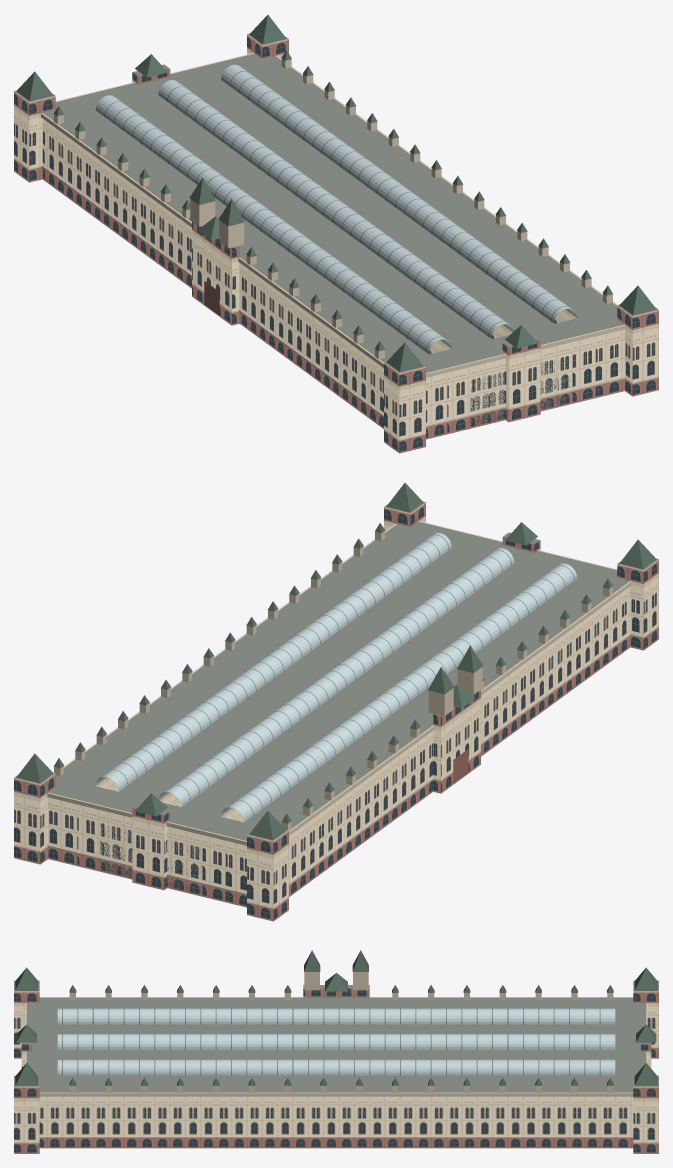
File: gum.glb
3 renders of one model, top to bottom at view 1: azimuth 30°, elevation 25°; view 2: azimuth 150°, elevation 25°; view 3: azimuth 270°, elevation 25°, orthographic. The views are drawn at different scales.
Parts seen in each view (by area): view 1: gum; view 2: gum; view 3: gum.
Boxes of the visible parts, bbox=[...] form: gum: bbox=[14, 15, 658, 453]; gum: bbox=[14, 483, 658, 921]; gum: bbox=[14, 950, 658, 1153].
Bounding box in the file's own units: 99 × 43.99 × 252.
6 materials, 1 textured.
